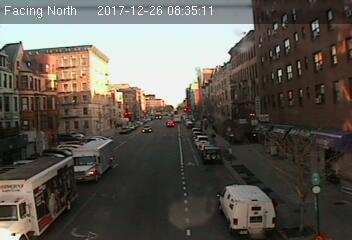car: (202, 146, 222, 162)
truck: (2, 156, 78, 240), (217, 185, 277, 238), (70, 138, 115, 181)
